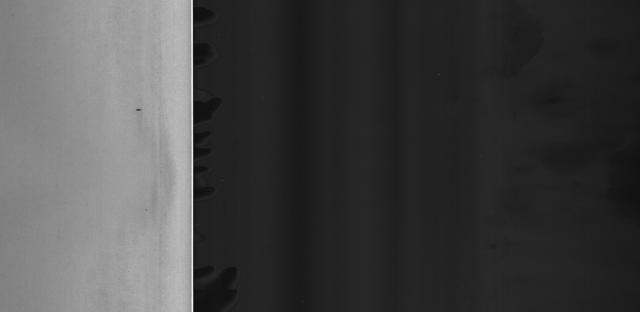inclusion: (133, 106, 143, 116)
